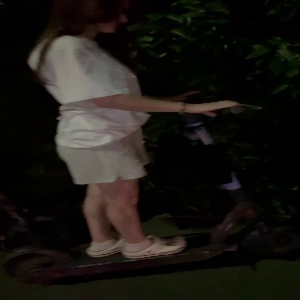human on a scooter: (2, 1, 299, 288)
